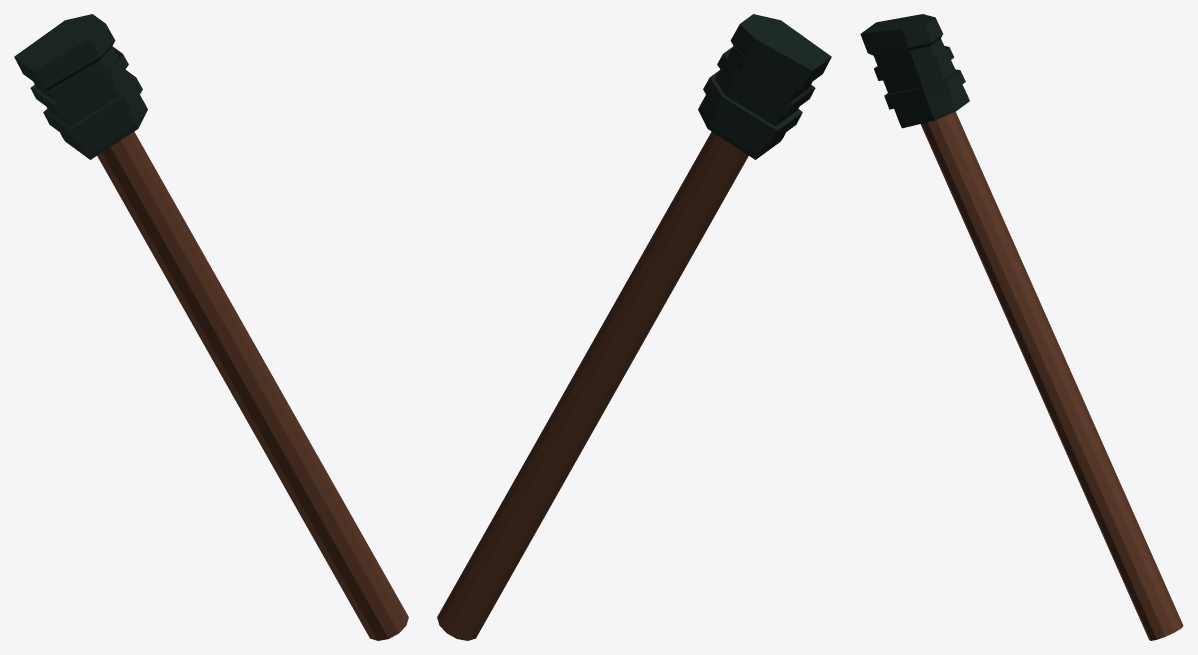
The model's file is Lever.fbx.
3 views of the same model, side by side, from view 1: azimuth 30°, elevation 25°; view 2: azimuth 150°, elevation 25°; view 3: azimuth 330°, elevation 25° (orthographic). The views are drawn at different scales.
Visible parts, largest first — view 1: polySurface4, Lever; view 2: polySurface4, Lever; view 3: polySurface4, Lever.
Boxes of the visible parts, box(x1,y1,x2,y2) form: polySurface4: box(97, 131, 408, 640); Lever: box(14, 14, 147, 159); polySurface4: box(437, 131, 748, 640); Lever: box(698, 14, 831, 159); polySurface4: box(920, 112, 1183, 640); Lever: box(860, 14, 969, 128).
Bounding box in the file's own units: 1.98 × 3.4 × 0.3139.
